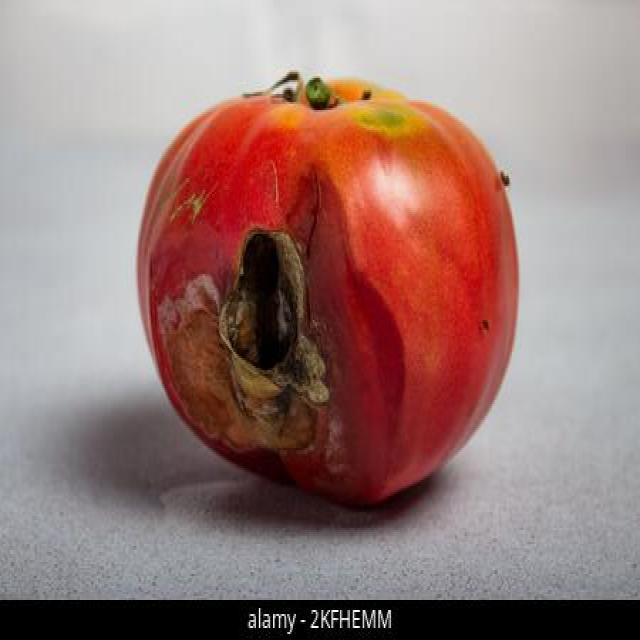Rotten: (137, 71, 521, 509)
